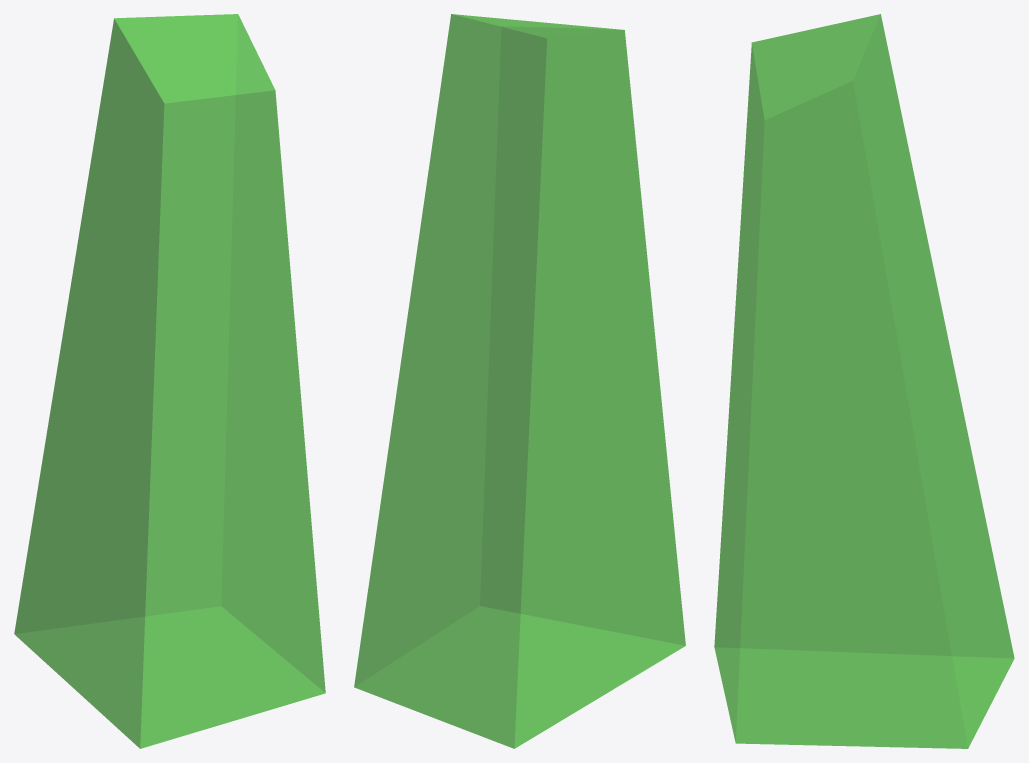
Rendered from Crsytal_4.fbx.
3 renders of one model, left to right at view 1: azimuth 30°, elevation 25°; view 2: azimuth 150°, elevation 25°; view 3: azimuth 270°, elevation 25°, orthographic.
Visible parts, largest first — view 1: Cube; view 2: Cube; view 3: Cube.
Boxes of the visible parts, x1=… form: Cube: x1=14, y1=14, x2=325, y2=748; Cube: x1=354, y1=14, x2=685, y2=748; Cube: x1=714, y1=14, x2=1014, y2=748.
Size of the model in its own units: 13.51 by 40.92 by 16.85.
